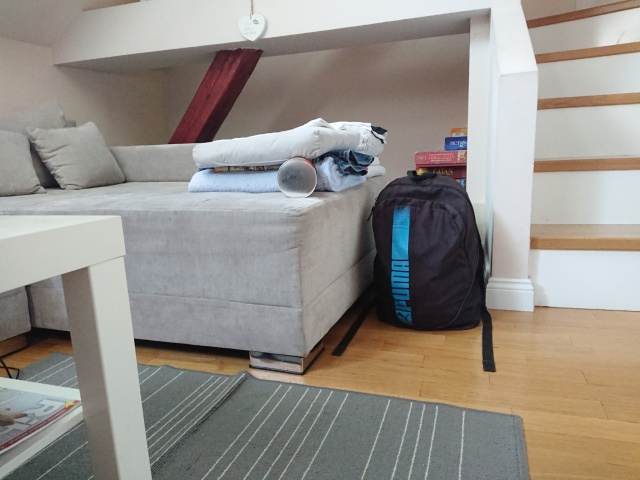Nescafe Classic 225g: (274, 154, 321, 201)
